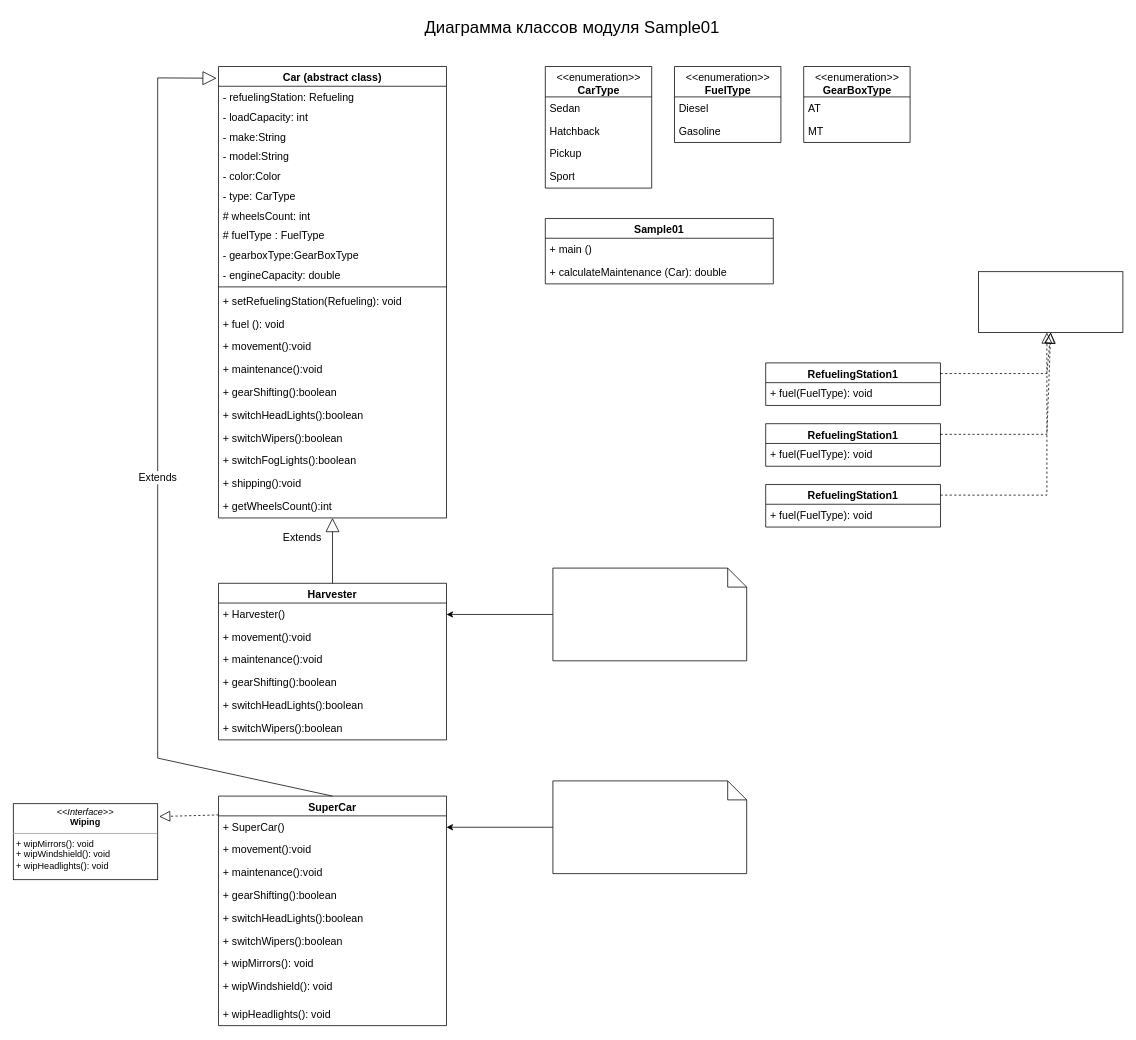
This 1136x1040 diagram has some shape labels left out. Each missing label, with the centre of its shape:
"<<Interface>> Refueling + fuel(FuelType): void" belongs at point (1050, 301).
"wheelsCount = 3 ; fuelType = FuelType. Gasoline ;" belongs at point (649, 827).
"wheelsCount = 6 ; fuelType = FuelType. Diesel ;" belongs at point (649, 614).
